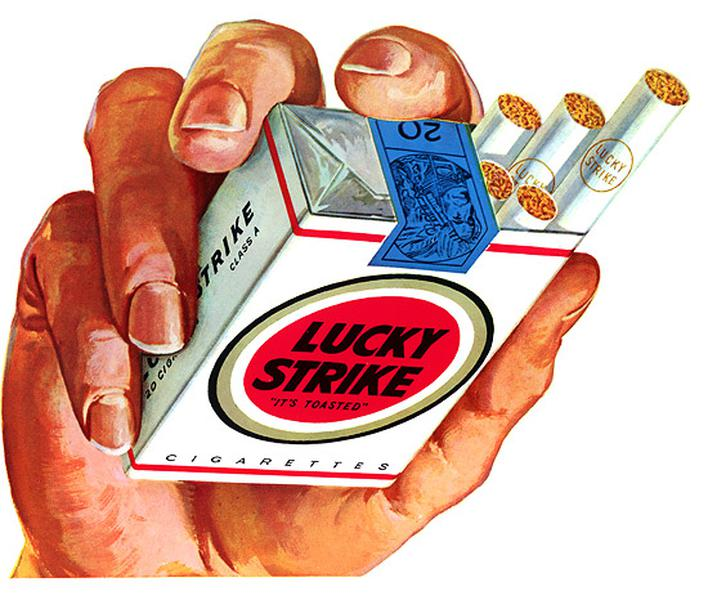lucky_strike_red: (211, 219, 481, 489)
